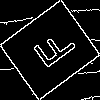F: (25, 25, 78, 76)
